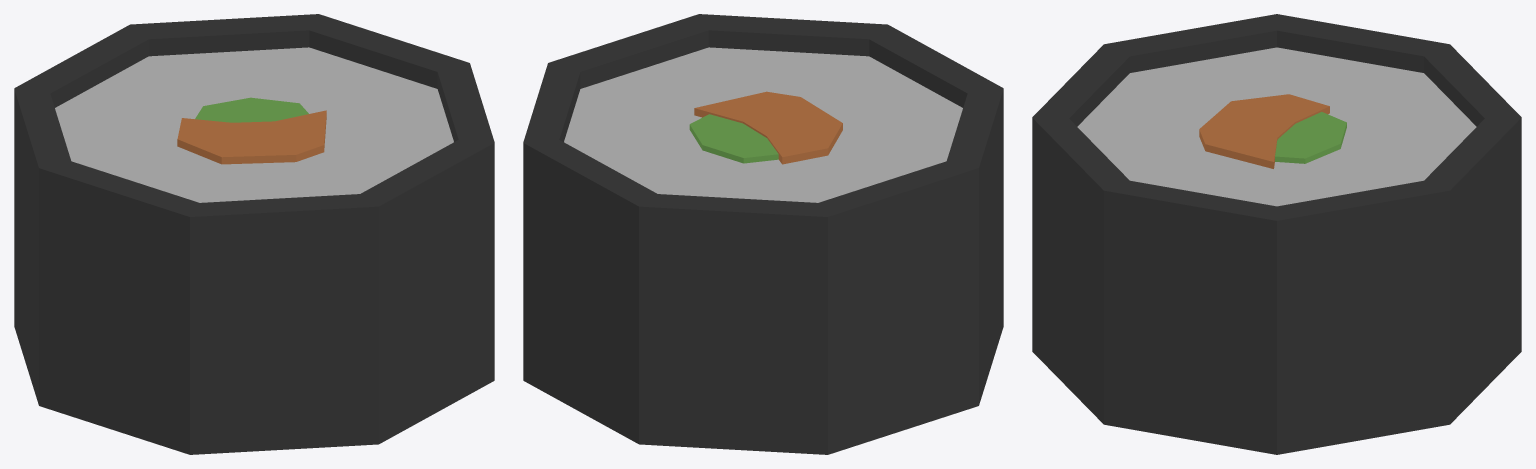
File: Sushi_Roll2.glb
The picture shows the model from 3 angles, left to right: view 1: azimuth 30°, elevation 25°; view 2: azimuth 150°, elevation 25°; view 3: azimuth 270°, elevation 25°; orthographic projection.
Visible parts, largest first — view 1: Sushi_Roll2; view 2: Sushi_Roll2; view 3: Sushi_Roll2.
Part boxes in pixels (box(x1,y1,x2,y2)): Sushi_Roll2: box(14, 14, 494, 454); Sushi_Roll2: box(523, 14, 1003, 454); Sushi_Roll2: box(1032, 14, 1521, 454).
Size of the model in its own units: 0.2926 by 0.1544 by 0.2926.
